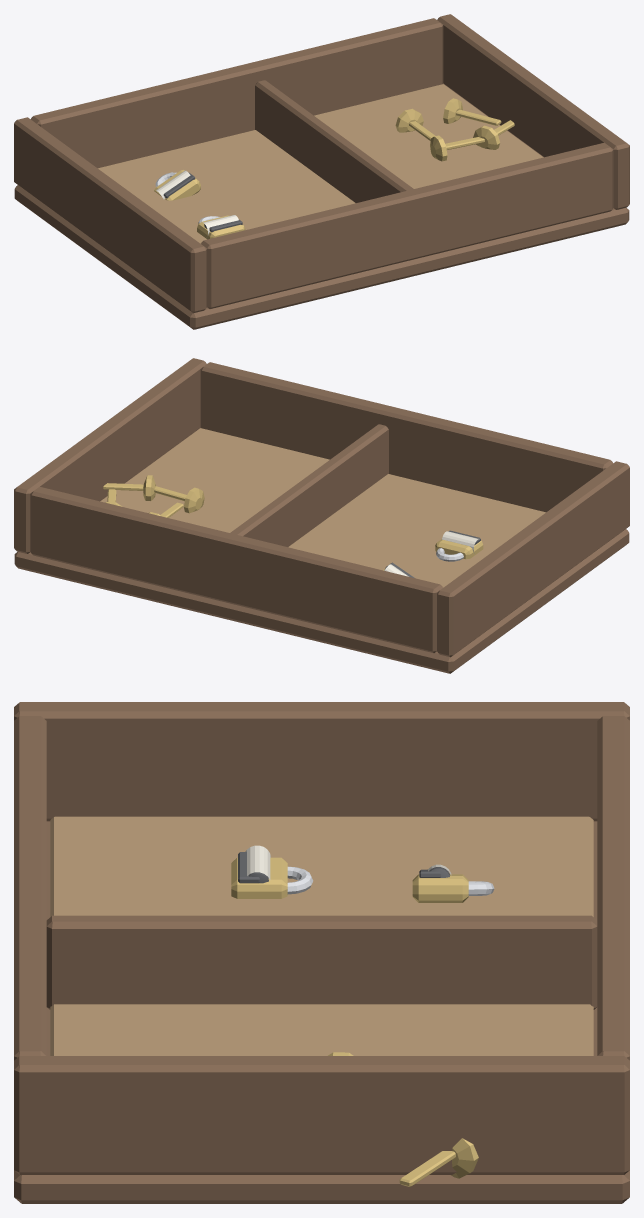
The model's file is escape-room-and-puzzle-venue-reset-tray-with-padlocks-922a0ab0__35802.glb.
The picture shows the model from 3 angles, top to bottom: view 1: azimuth 30°, elevation 25°; view 2: azimuth 150°, elevation 25°; view 3: azimuth 270°, elevation 25°; orthographic projection. The views are drawn at different scales.
Visible parts, largest first — view 1: reset-tray-with-padlocks; view 2: reset-tray-with-padlocks; view 3: reset-tray-with-padlocks.
Part boxes in pixels (x1,y1,x2,y2): reset-tray-with-padlocks: (14,14,629,329); reset-tray-with-padlocks: (14,358,629,673); reset-tray-with-padlocks: (14,702,629,1203).
Bounding box in the file's own units: 0.5195 × 0.085 × 0.34.
